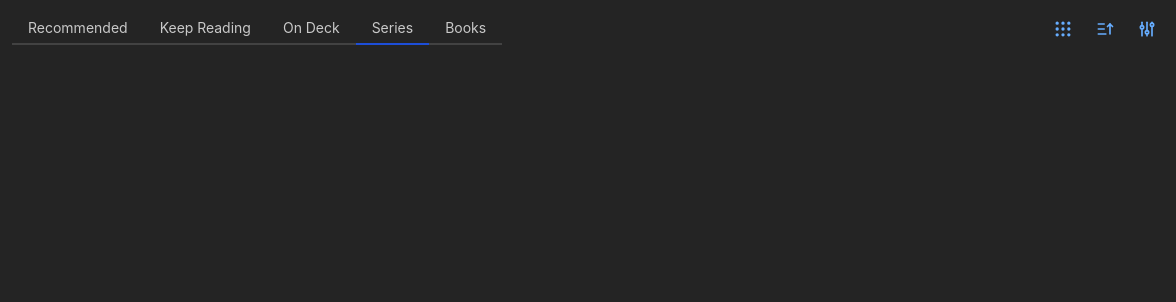
Test case: LibraryToolbar - Series Sort Options › should render all series sort options
// Click sort button to open menu
Click the button named "Sort options": (1105, 29) [1088, 12, 1122, 46]
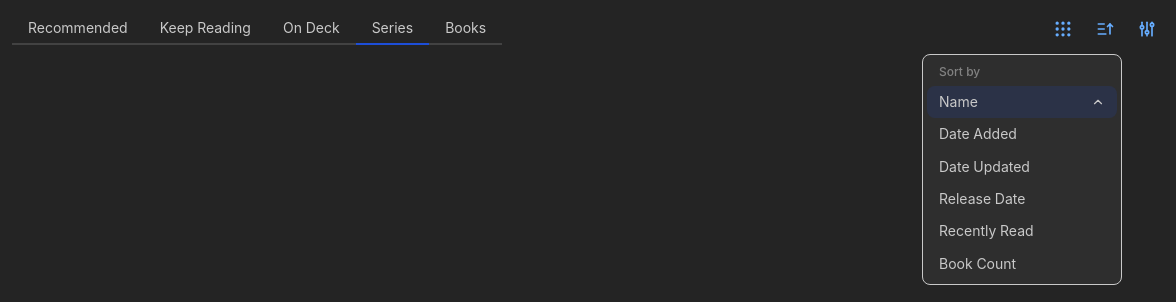
expect the text "Name" is shown: met, box [939, 93, 978, 110]
expect the text "Date Added" is shown: met, box [939, 125, 1017, 142]
expect the text "Date Updated" is shown: met, box [939, 158, 1030, 175]
